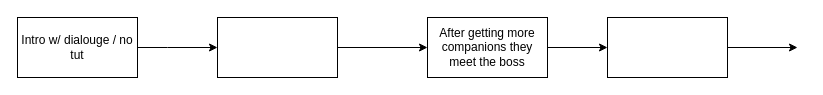
Image size: 823x95. Some labels were removed from this diagram. Here are the shapes that lost their labels. From the top down, the box of each, then its label:
(216, 16, 338, 78): Open Map 2 explore/ meet enemys + get starter companion
(606, 16, 728, 78): Meet the boss / defeat it
